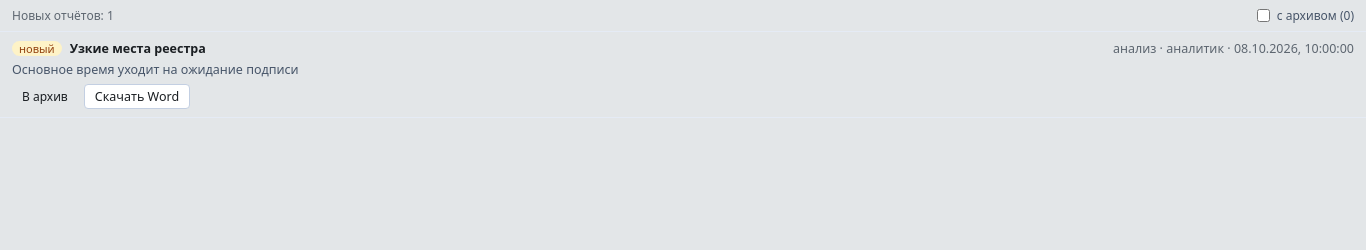
Test: отчёты агентов: вкладка › код, которого нет в модели, остаётся обычным текстом
The width and height of the screenshot is (1366, 250).
Click the text "Узкие места реестра": (138, 48) [70, 40, 206, 57]
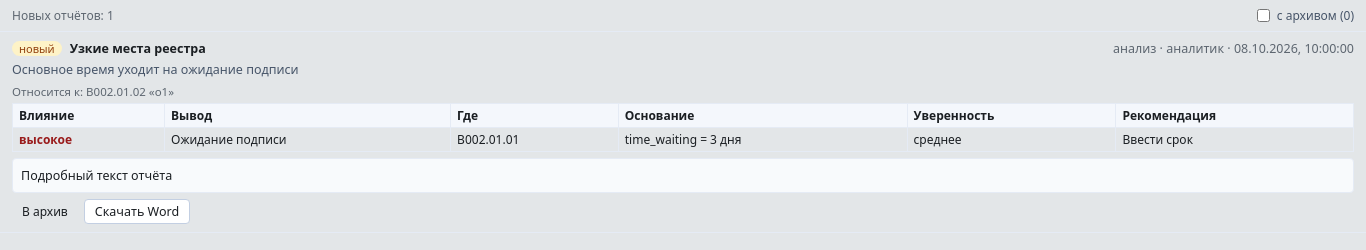
Check: the text "B002.01.01" is shown, box [451, 128, 618, 152]
